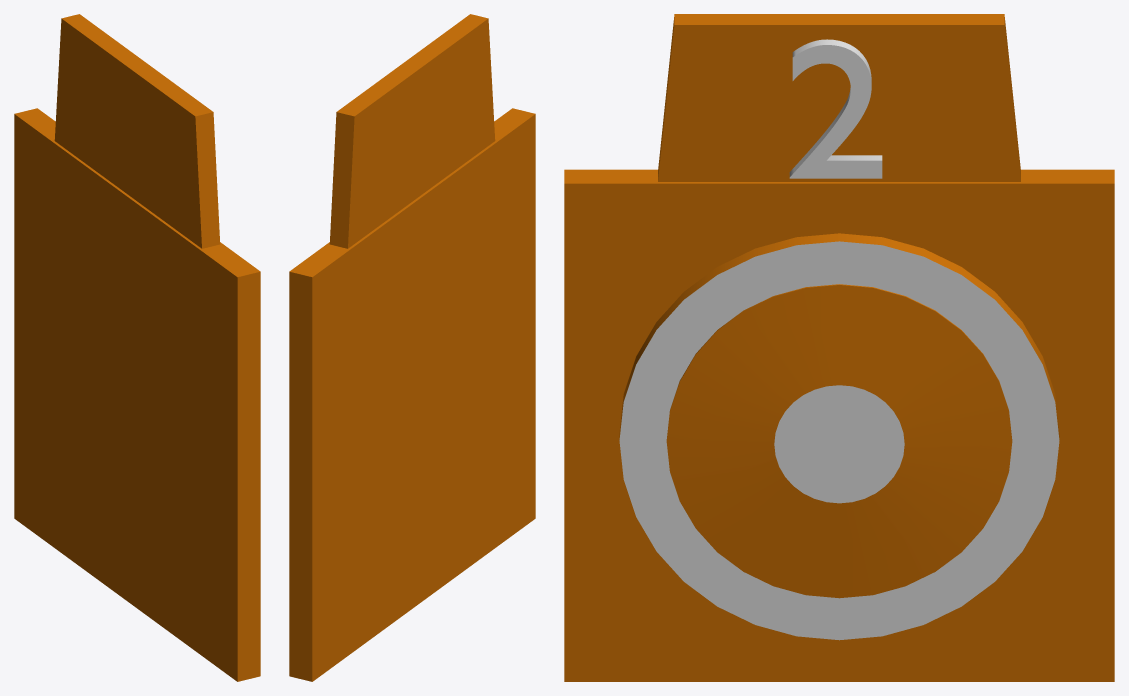
The model's file is Target2Orange.fbx.
3 views of the same model, side by side, from view 1: azimuth 30°, elevation 25°; view 2: azimuth 150°, elevation 25°; view 3: azimuth 270°, elevation 25° (orthographic). The views are drawn at different scales.
Visible parts, largest first — view 1: Target2Orange; view 2: Target2Orange; view 3: Target2Orange, 2.
Part boxes in pixels (<box>): Target2Orange: <box>14,14,260,681</box>; Target2Orange: <box>289,14,535,681</box>; Target2Orange: <box>564,14,1114,681</box>; 2: <box>789,39,882,178</box>.
Bounding box in the file's own units: 21.93 × 263 × 200.
